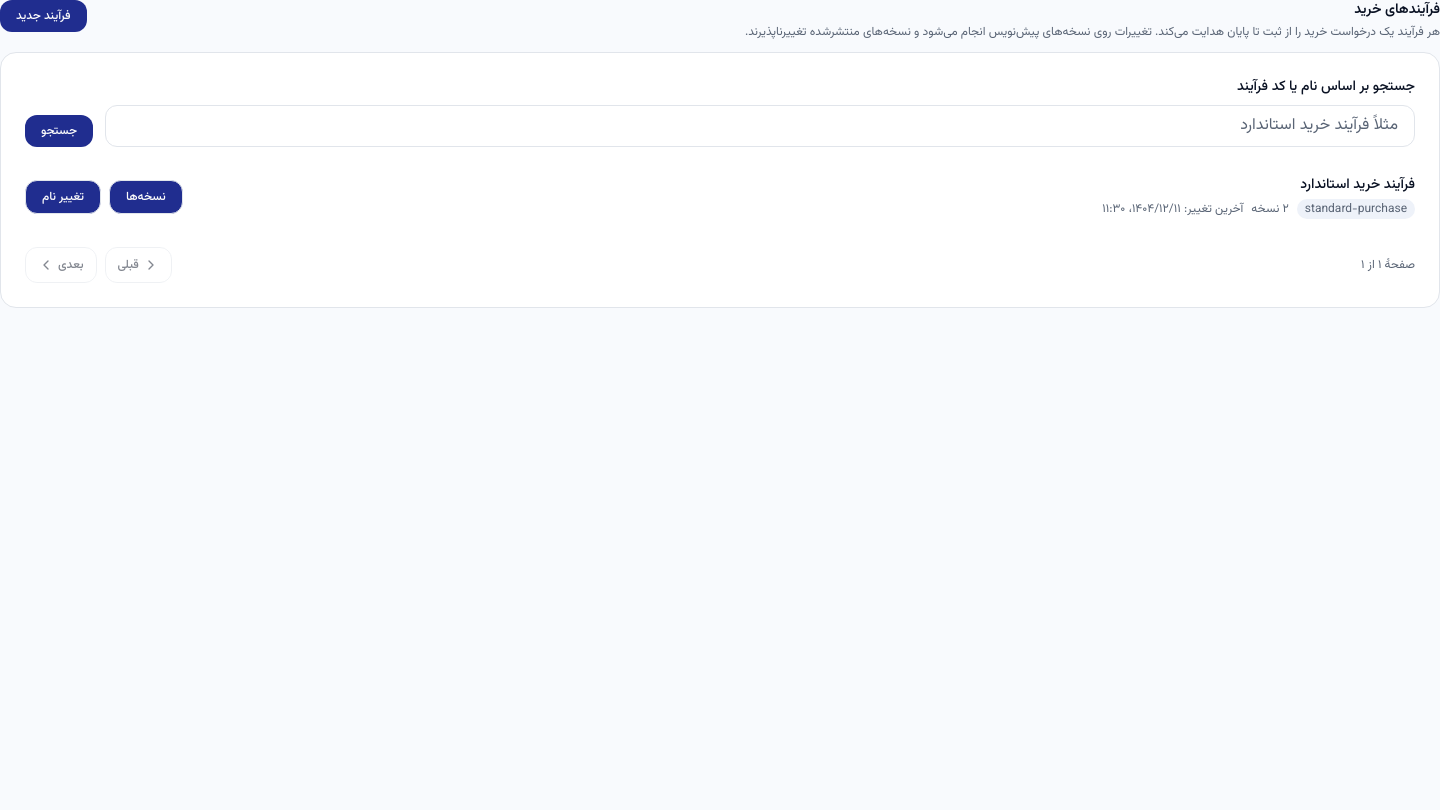
Scenario: CommerceWorkflowSettings — definitions › renames a definition through its own PATCH and reports success
Expected: the list with test id "commerce-workflow-definition-rows" is shown, top-left (25, 163), bottom-right (1415, 231)
Click the button with test id "commerce-workflow-rename-standard-purchase" at [63, 197], box top-left (25, 180), bottom-right (101, 214)
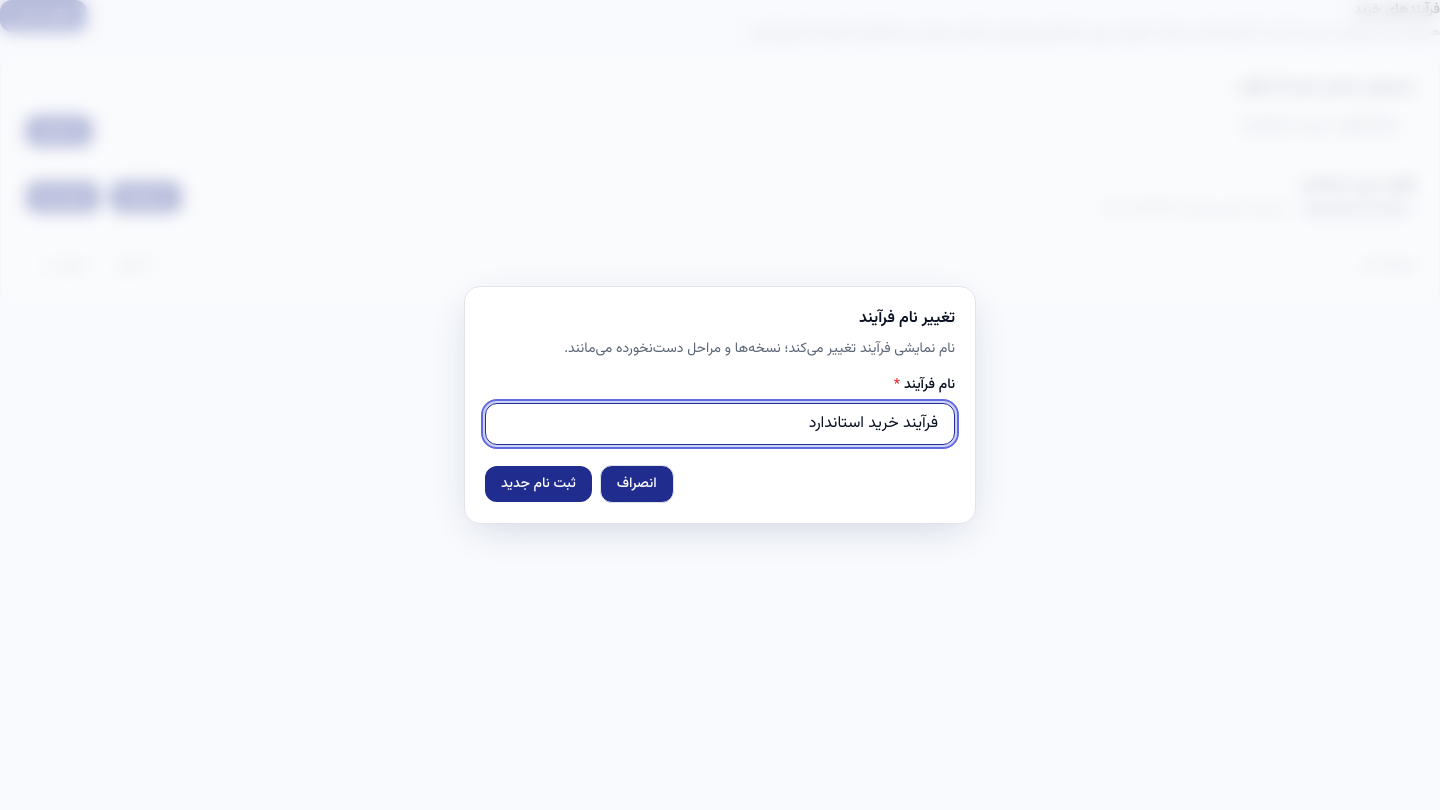
Replace the text in the field labelled "نام فرآیند*" with "نام تازه" at [720, 424], box top-left (485, 403), bottom-right (955, 445)
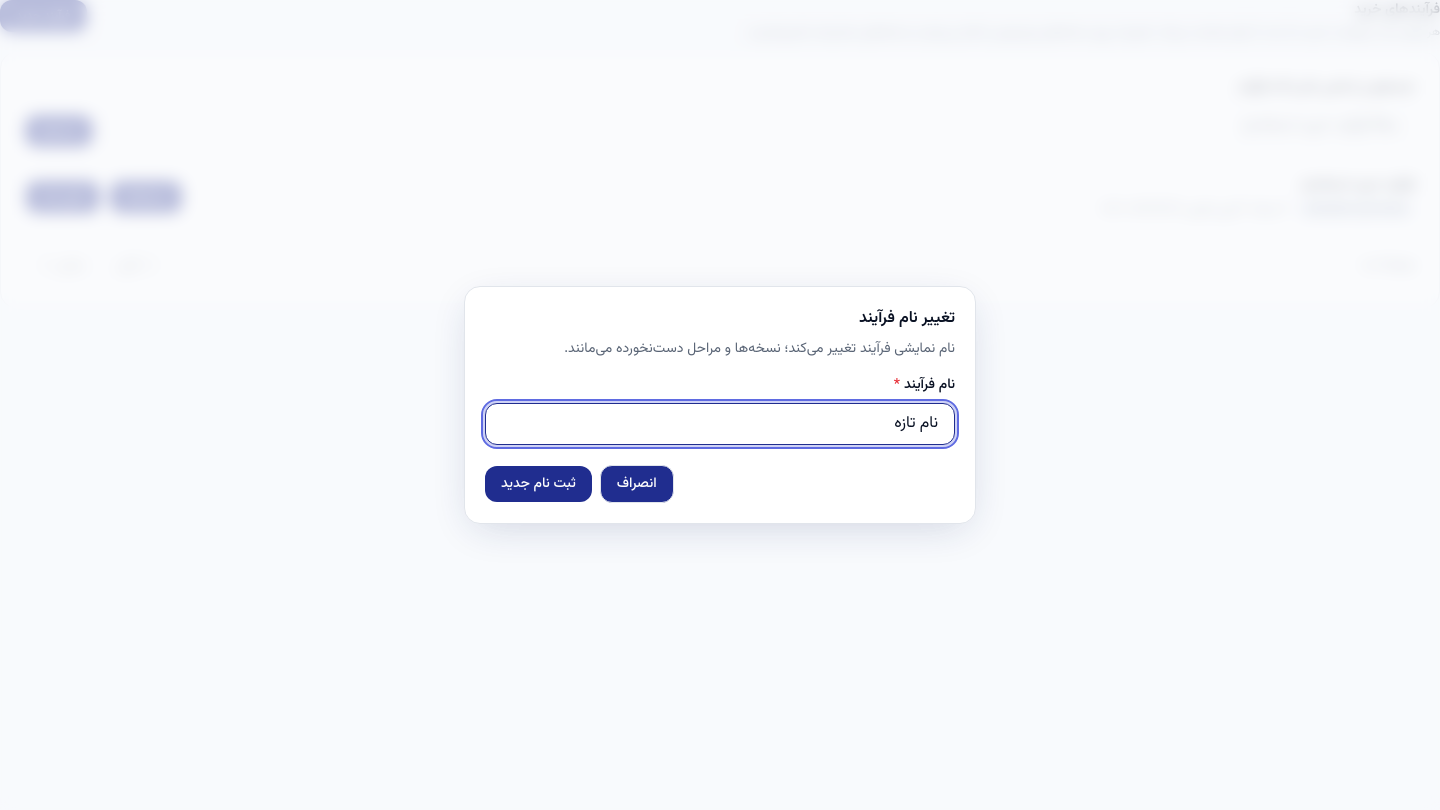
Click the button with test id "commerce-workflow-rename-submit" at [538, 484], box top-left (485, 466), bottom-right (592, 502)
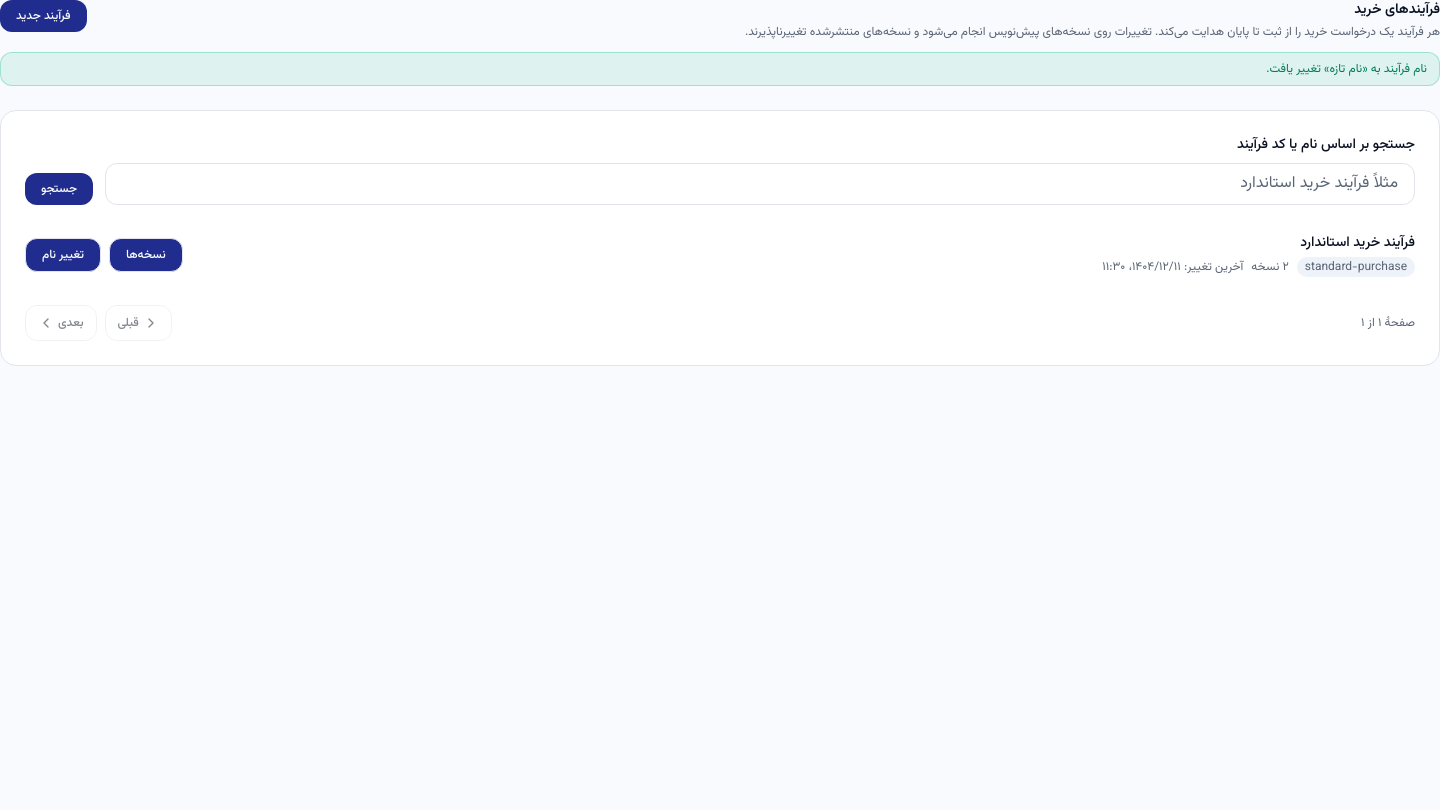
Now the message with test id "commerce-workflow-feedback" shows "تغییر یافت", box top-left (1266, 60), bottom-right (1427, 78)
